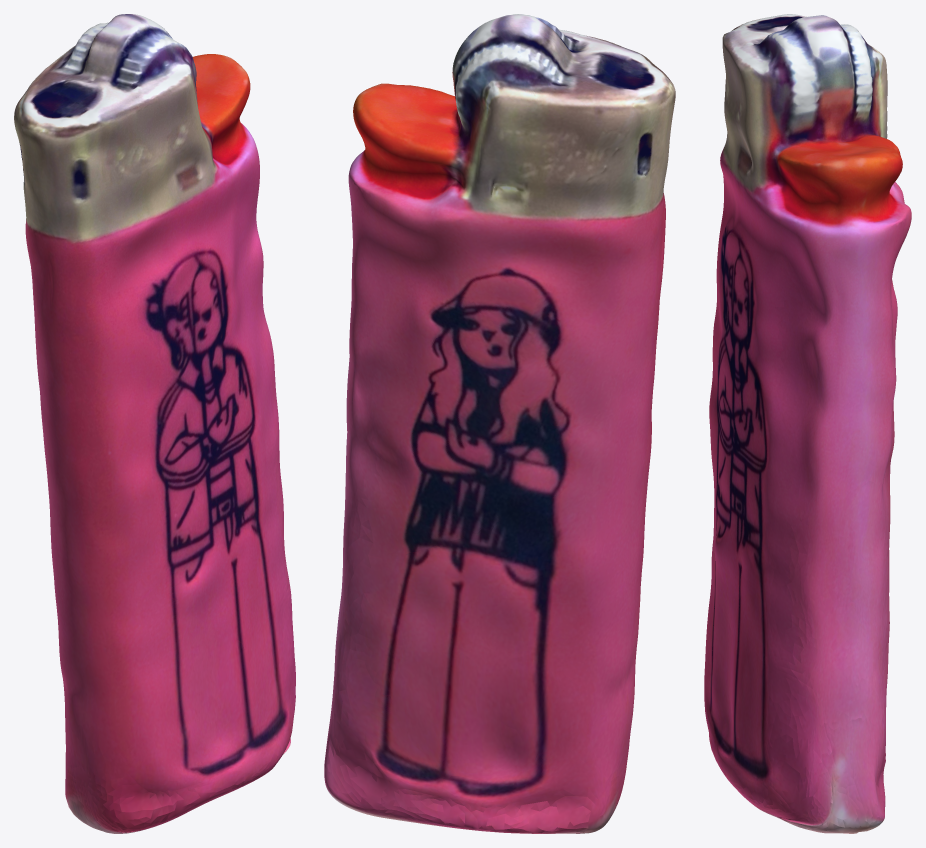
The model's file is feuerzeug.glb.
3 views of the same model, side by side, from view 1: azimuth 30°, elevation 25°; view 2: azimuth 150°, elevation 25°; view 3: azimuth 270°, elevation 25° (orthographic). The views are drawn at different scales.
Parts seen in each view (by area): view 1: 3DModel; view 2: 3DModel; view 3: 3DModel.
Part boxes in pixels (x1,y1,x2,y2): 3DModel: [14, 14, 295, 833]; 3DModel: [324, 14, 675, 833]; 3DModel: [704, 14, 911, 833].
Size of the model in its own units: 0.2192 by 0.5661 by 0.1403.
Materials: 1 (1 with a texture image).
